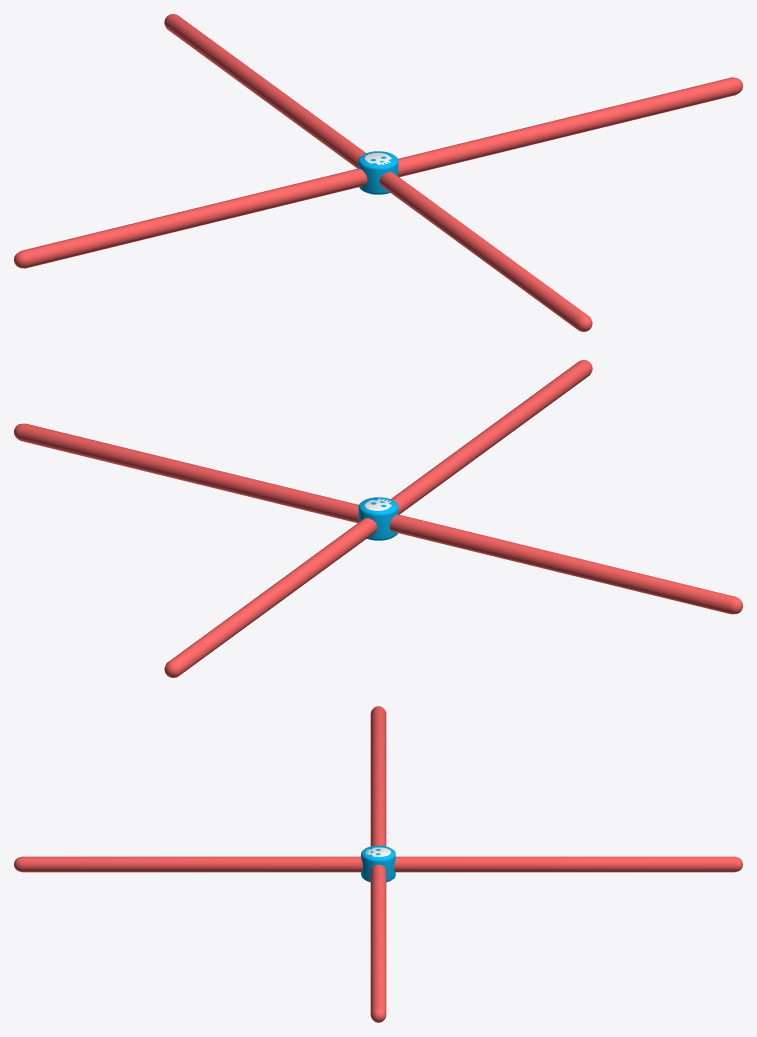
The model's file is stick_4_4.FBX.
3 views of the same model, one above another, from view 1: azimuth 30°, elevation 25°; view 2: azimuth 150°, elevation 25°; view 3: azimuth 270°, elevation 25° (orthographic). The views are drawn at different scales.
Parts seen in each view (by area): view 1: stick_4_4; view 2: stick_4_4; view 3: stick_4_4.
Boxes of the visible parts, left/top/right/bottom form: stick_4_4: left=14, top=14, right=742, bottom=331; stick_4_4: left=14, top=360, right=742, bottom=677; stick_4_4: left=14, top=706, right=742, bottom=1022.
Size of the model in its own units: 31.24 by 1.16 by 31.25.
1 material, 1 textured.
